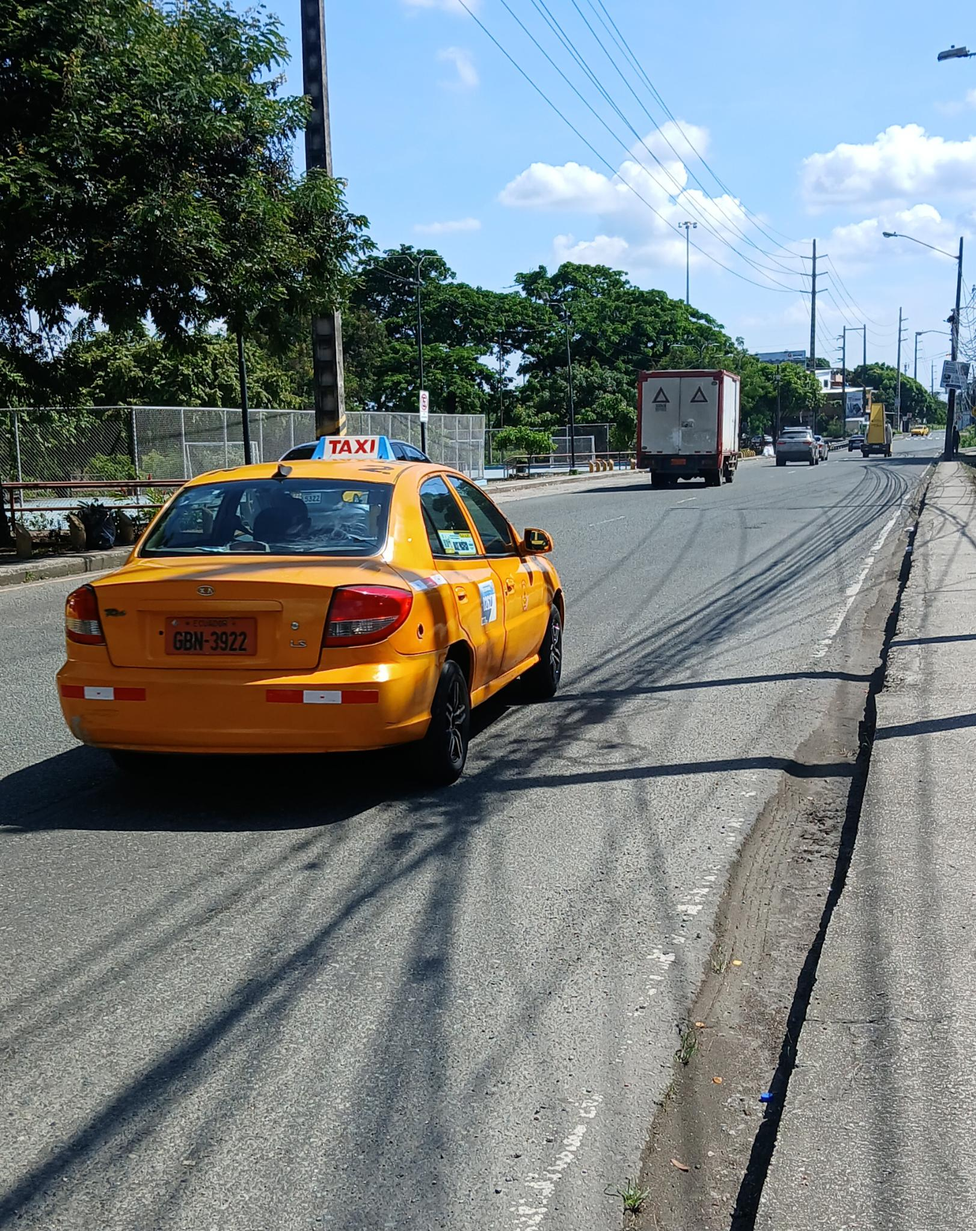license_plate: (163, 617, 257, 656)
